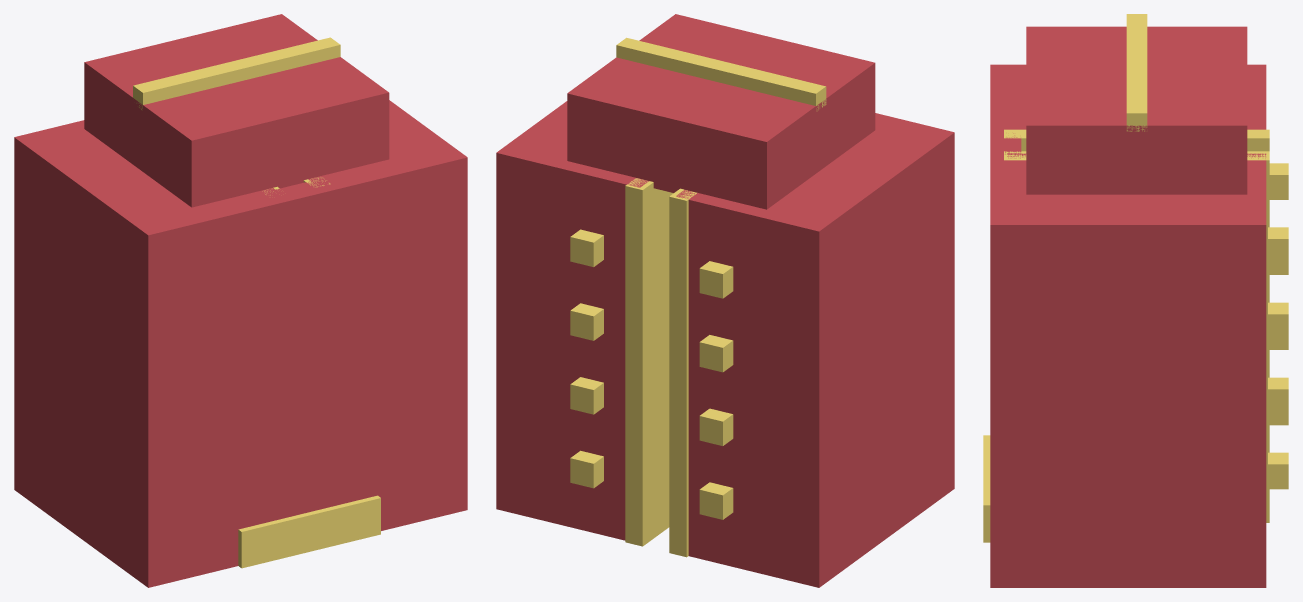
The model's file is oficial_vermelho_tronco.glb.
3 views of the same model, side by side, from view 1: azimuth 30°, elevation 25°; view 2: azimuth 150°, elevation 25°; view 3: azimuth 270°, elevation 25° (orthographic). The views are drawn at different scales.
Parts seen in each view (by area): view 1: oficial_vermelho_tronco; view 2: oficial_vermelho_tronco; view 3: oficial_vermelho_tronco.
Part boxes in pixels (x1,y1,x2,y2): oficial_vermelho_tronco: [14, 14, 467, 587]; oficial_vermelho_tronco: [496, 14, 954, 587]; oficial_vermelho_tronco: [983, 14, 1288, 587].
Size of the model in its own units: 0.55 by 0.71 by 0.4425.
